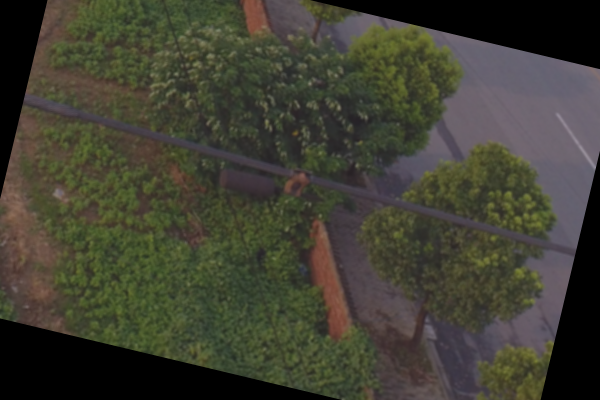damper_defect: (213, 159, 349, 203)
